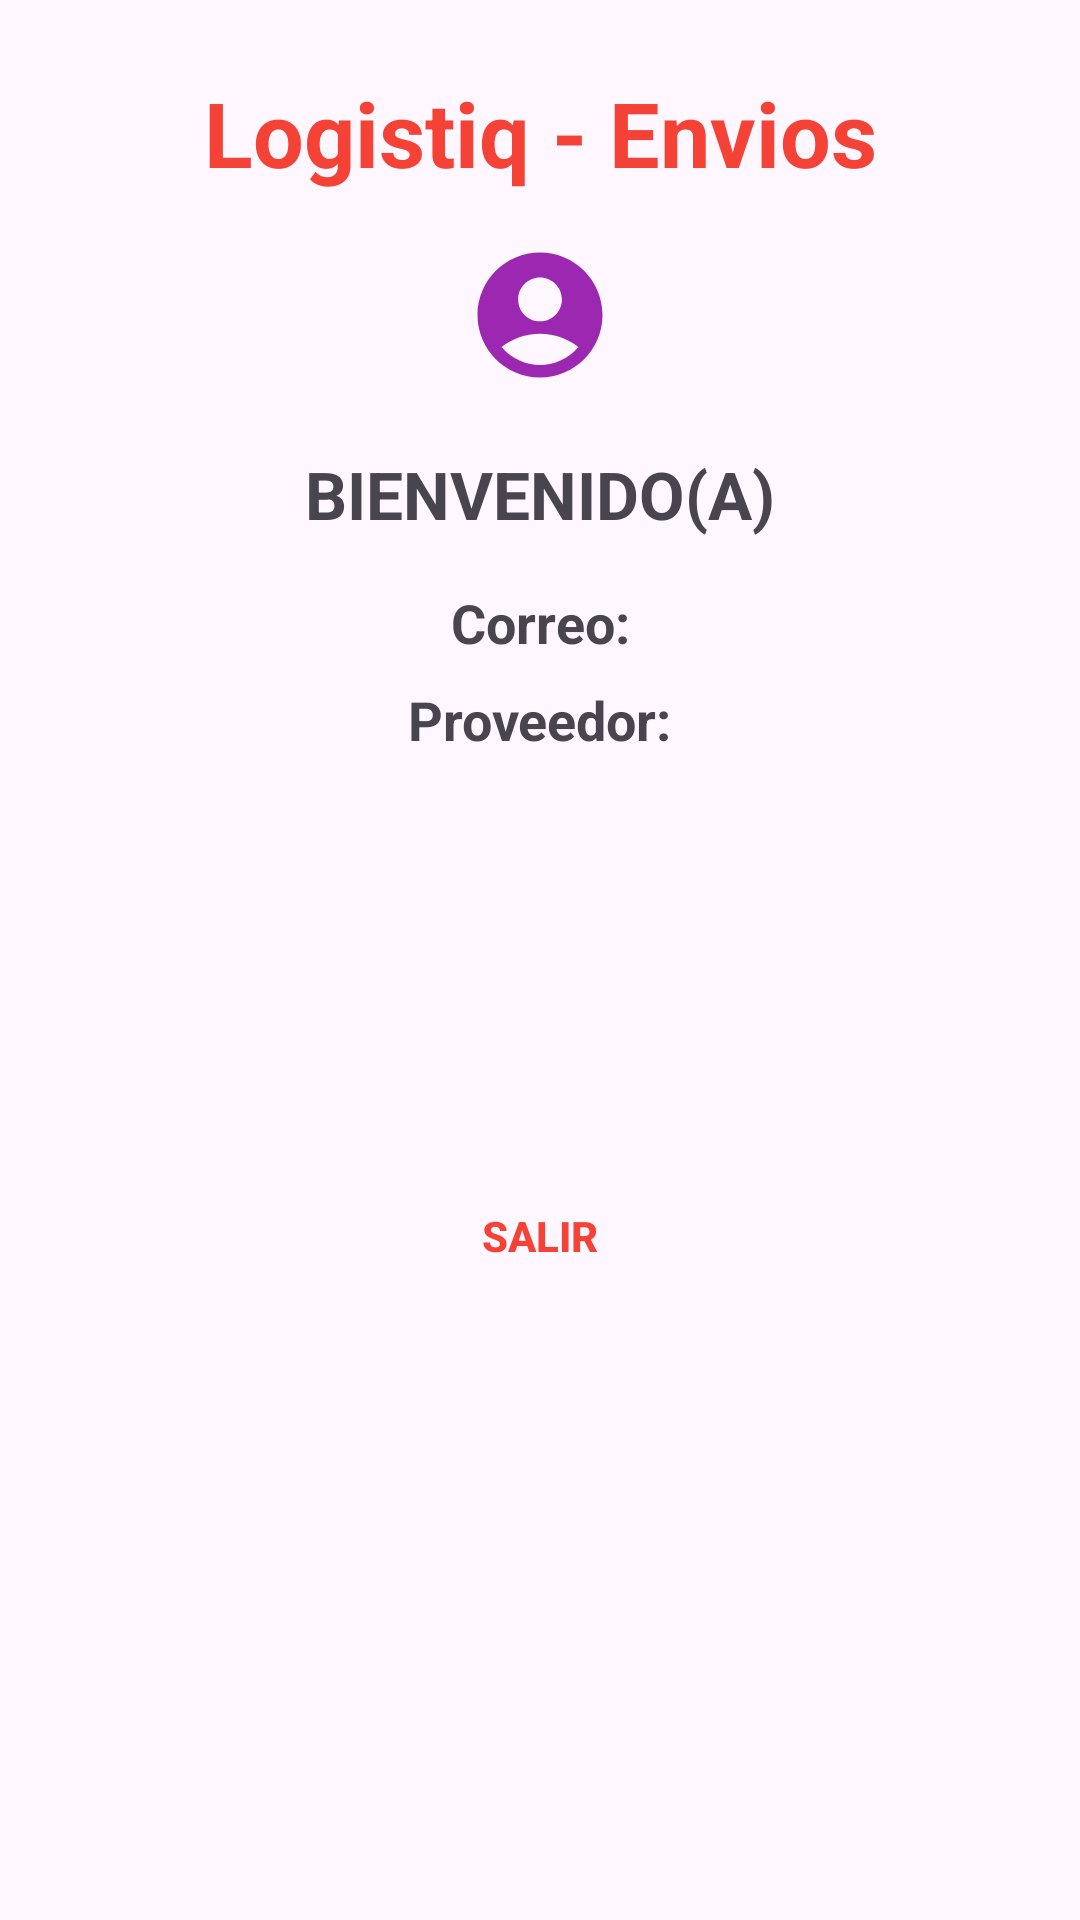

Named icons in this screenshot (1080×1920) and their centers, (x,y):
account circle: (540,315)
